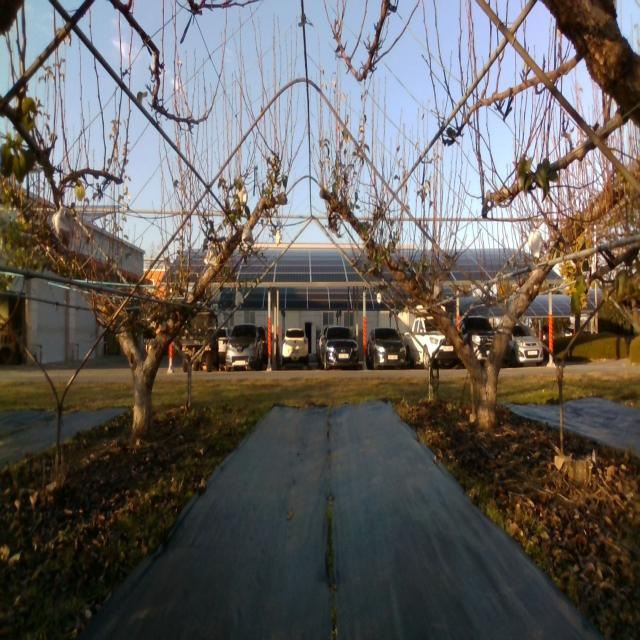pearbags: (52, 205, 73, 247), (528, 230, 542, 259), (206, 246, 218, 265), (242, 226, 254, 244), (238, 186, 248, 206)
